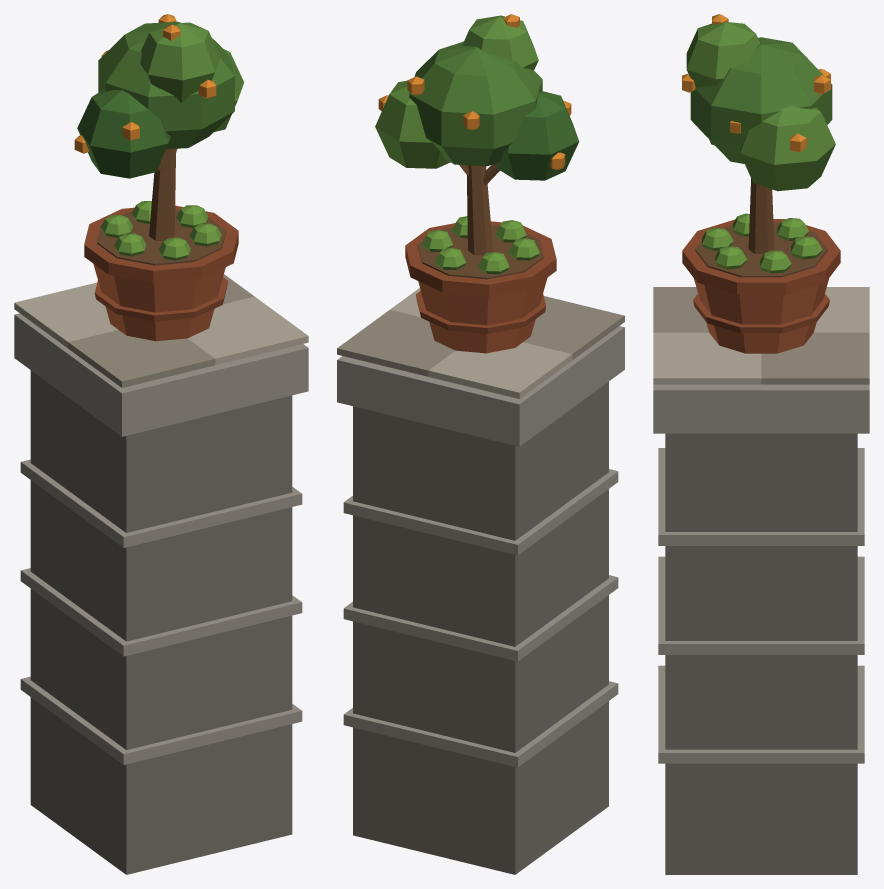
Rendered from decor_potted_tree.glb.
The picture shows the model from 3 angles, left to right: view 1: azimuth 30°, elevation 25°; view 2: azimuth 150°, elevation 25°; view 3: azimuth 270°, elevation 25°; orthographic projection. The views are drawn at different scales.
Visible parts, largest first — view 1: decor_potted_tree; view 2: decor_potted_tree; view 3: decor_potted_tree.
Boxes of the visible parts, left/top/right/bottom form: decor_potted_tree: left=14, top=14, right=308, bottom=874; decor_potted_tree: left=337, top=14, right=624, bottom=874; decor_potted_tree: left=653, top=14, right=869, bottom=874.
Bounding box in the file's own units: 1.8 × 7.49 × 1.8.
